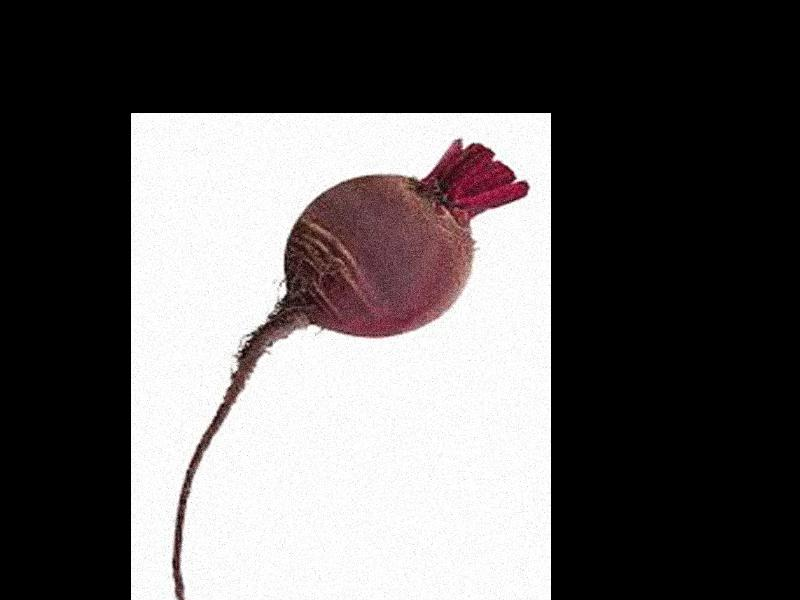Beet: (172, 141, 529, 600)
